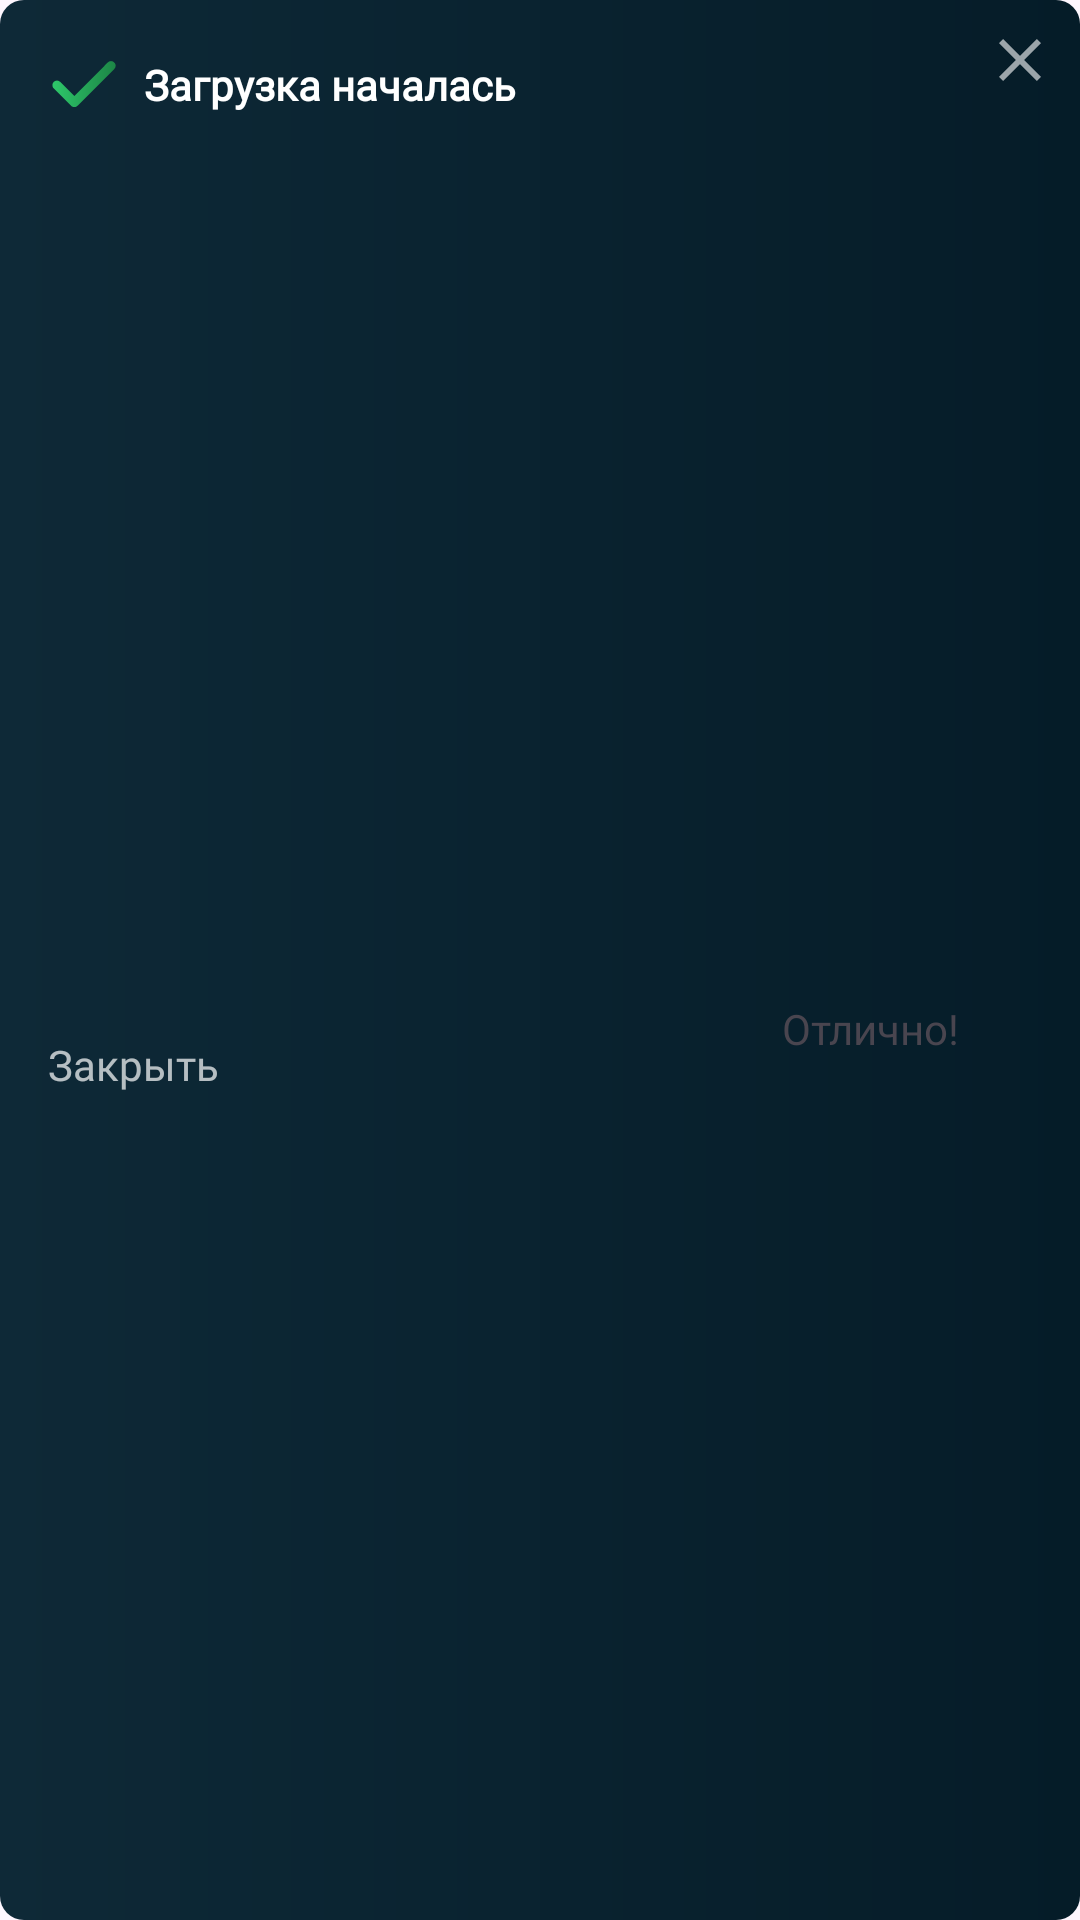

Named icons in this screenshot (1080 × 1920) and their centers, point (x, y):
close: point (1020, 60)
